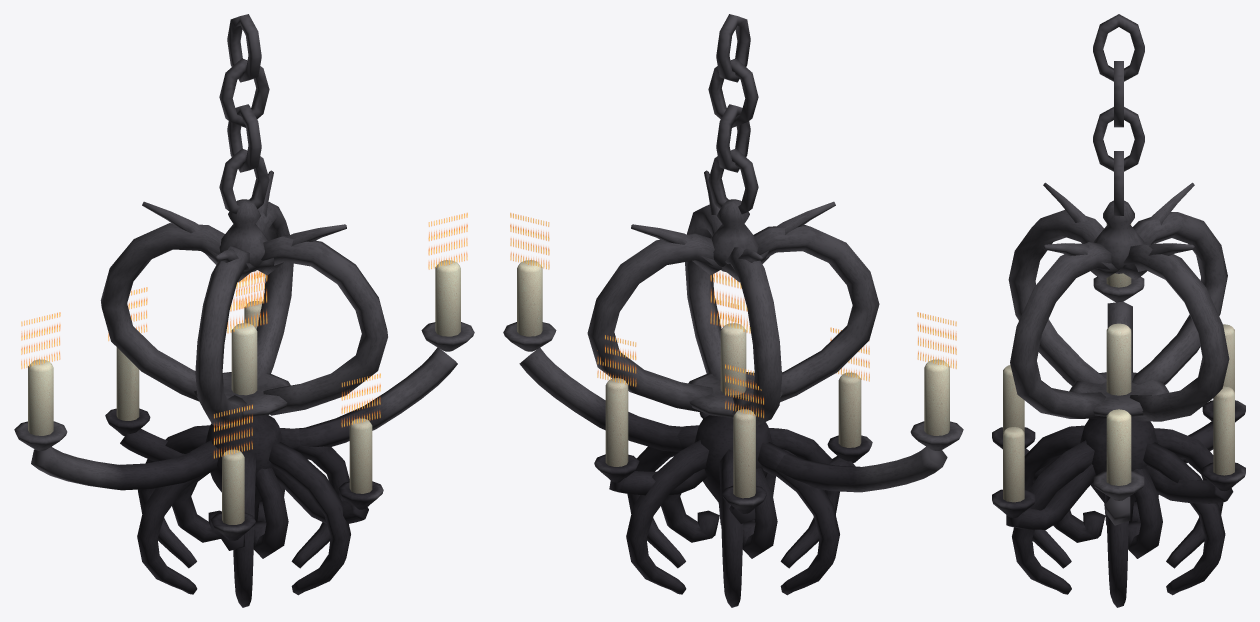
File: mm8_deco_chandelier1.glb
3 renders of one model, left to right at view 1: azimuth 30°, elevation 25°; view 2: azimuth 150°, elevation 25°; view 3: azimuth 270°, elevation 25°, orthographic.
Visible parts, largest first — view 1: Chandelier; view 2: Chandelier; view 3: Chandelier.
Part boxes in pixels (x1,y1,x2,y2): Chandelier: (14,14,474,607); Chandelier: (503,14,963,607); Chandelier: (992,14,1245,607).
Bounding box in the file's own units: 1.29 × 1.55 × 0.6285.
Materials: 9 (9 with a texture image).
